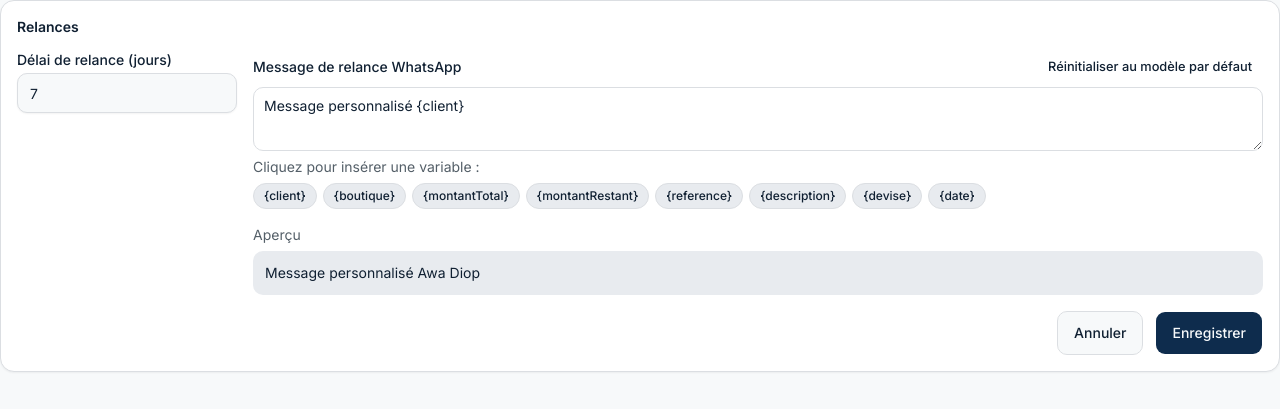
Test case: RelanceSettingsForm › le bouton de réinitialisation restaure le modèle par défaut
Click the button "Réinitialiser au modèle par défaut" at (1150, 67), box [1037,53,1263,81]
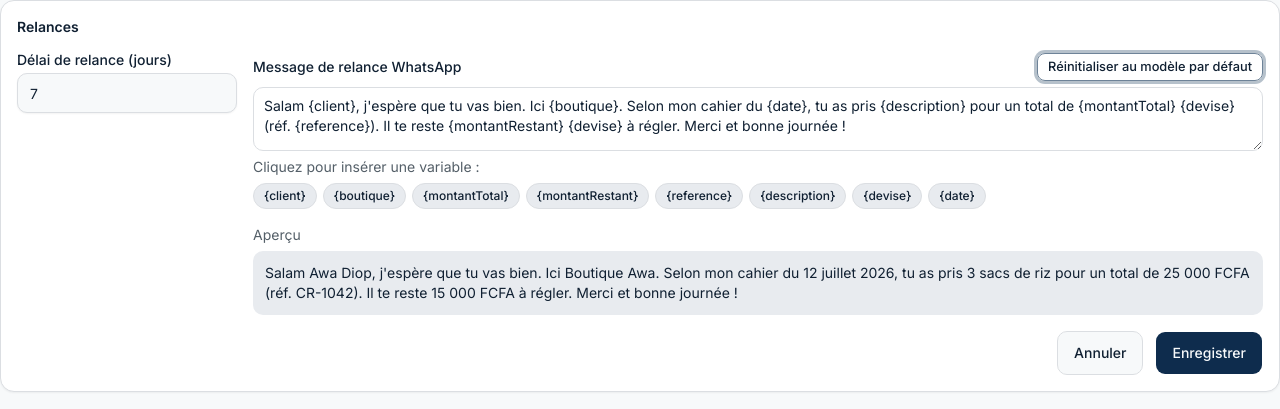
Now the text box labelled "Message de relance WhatsApp" holds "Salam {client}, j'espère que tu vas bien. Ici {boutique}. Selon mon cahier du {date}, tu as pris {description} pour un total de {montantTotal} {devise} (réf. {r", box [253,87,1263,151]
